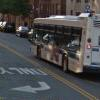Bus: (29, 10, 100, 77)
